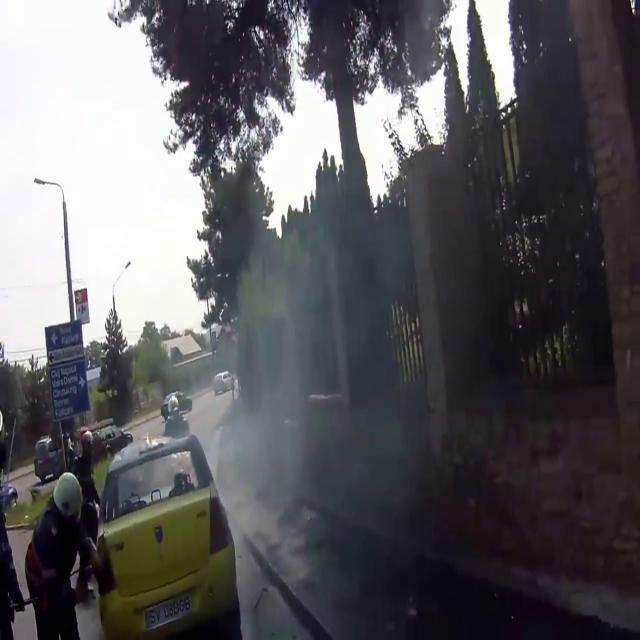Smoke: (190, 141, 470, 587)
